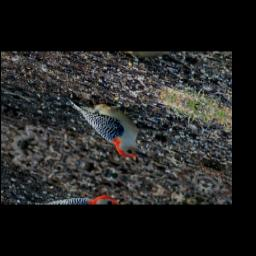Woodpecker: (54, 84, 168, 165)
